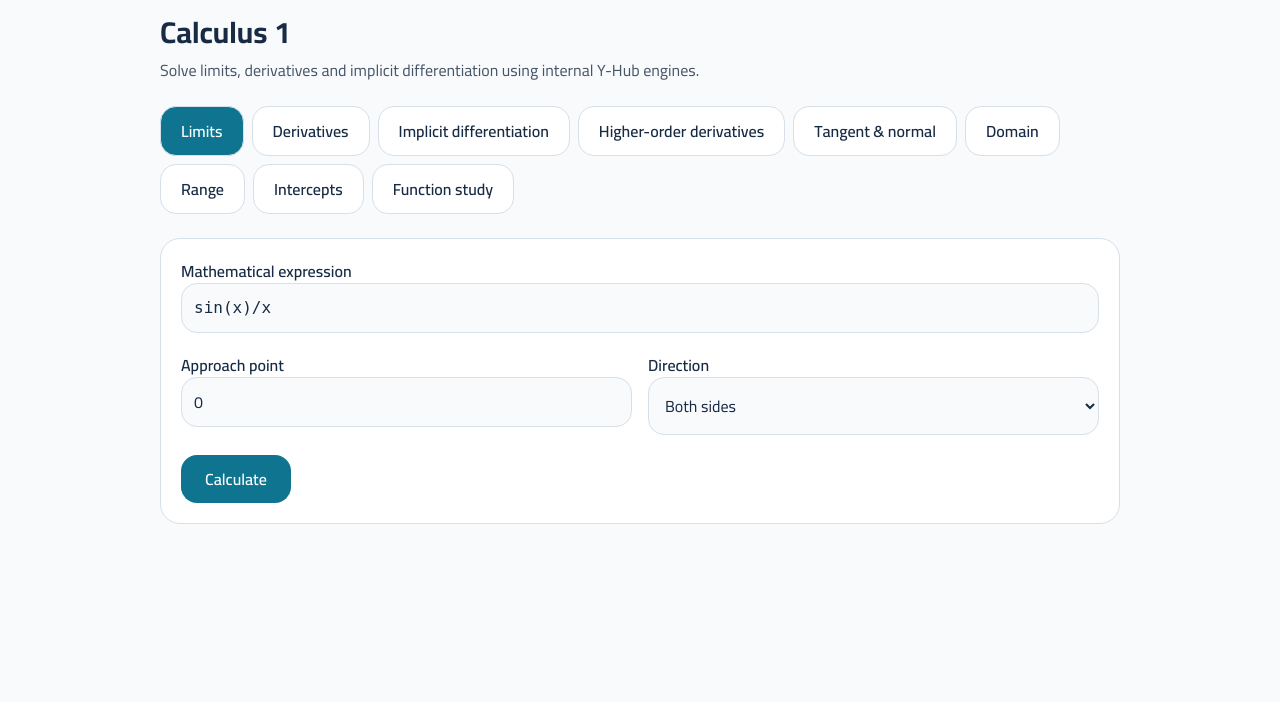
Test case: Calculus 1 function study UI › displays the exact quadratic proof in its own section
Click the tab "Function study".
click(443, 189)  # box [372,164,514,214]
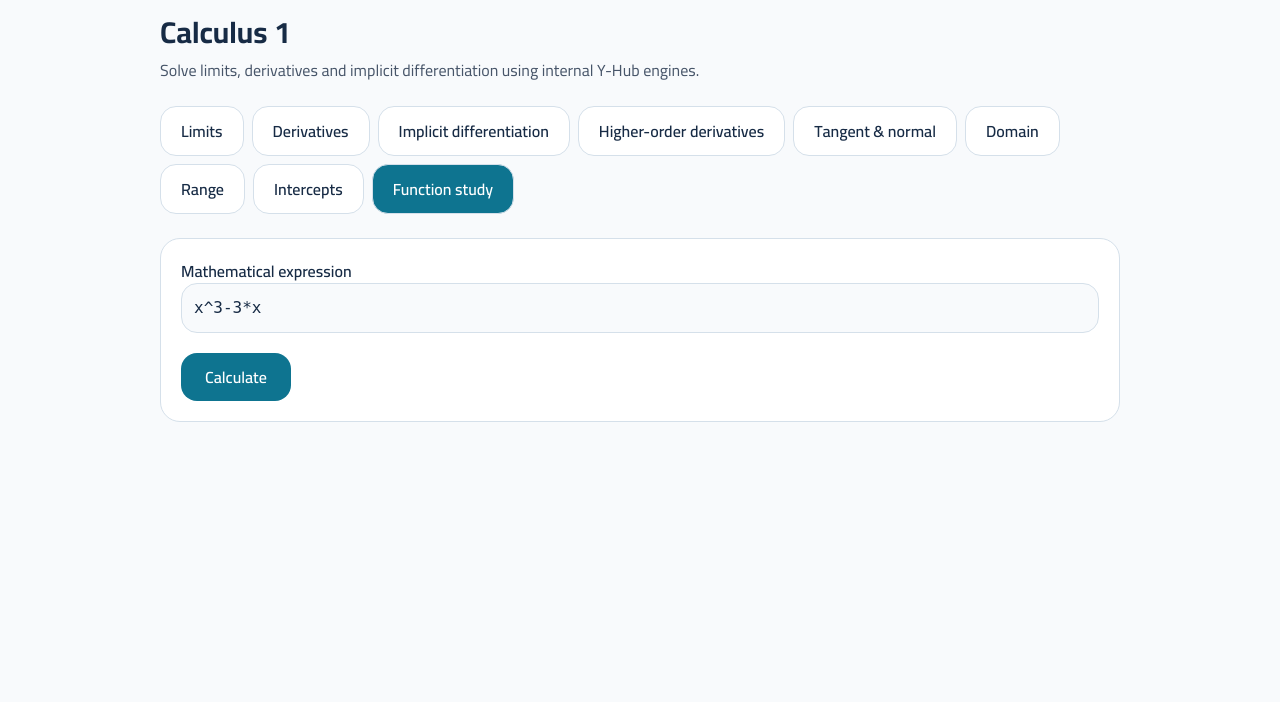
Type "x^2-4*x+1" into the field labelled "Mathematical expression".
click(640, 308); type("x^2-4*x+1")  # box [181,283,1099,333]
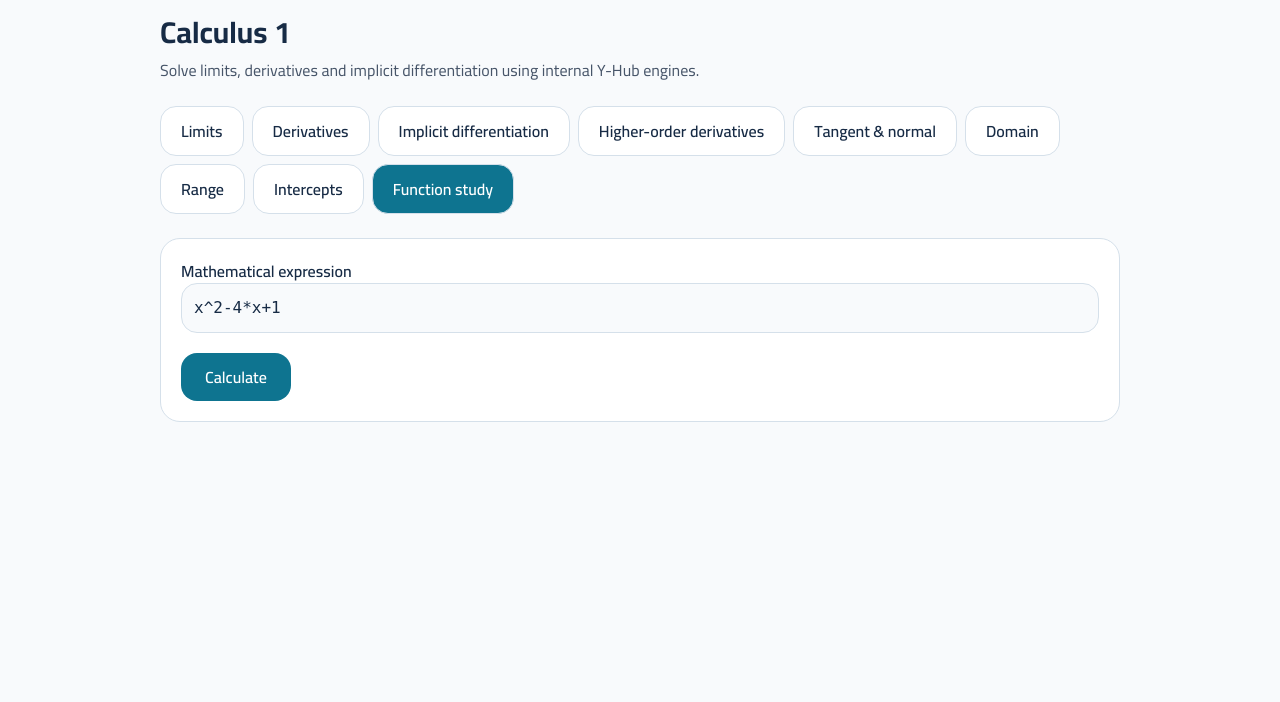
Click the button "Calculate".
click(236, 377)  # box [181,353,291,401]
(page scrolled)
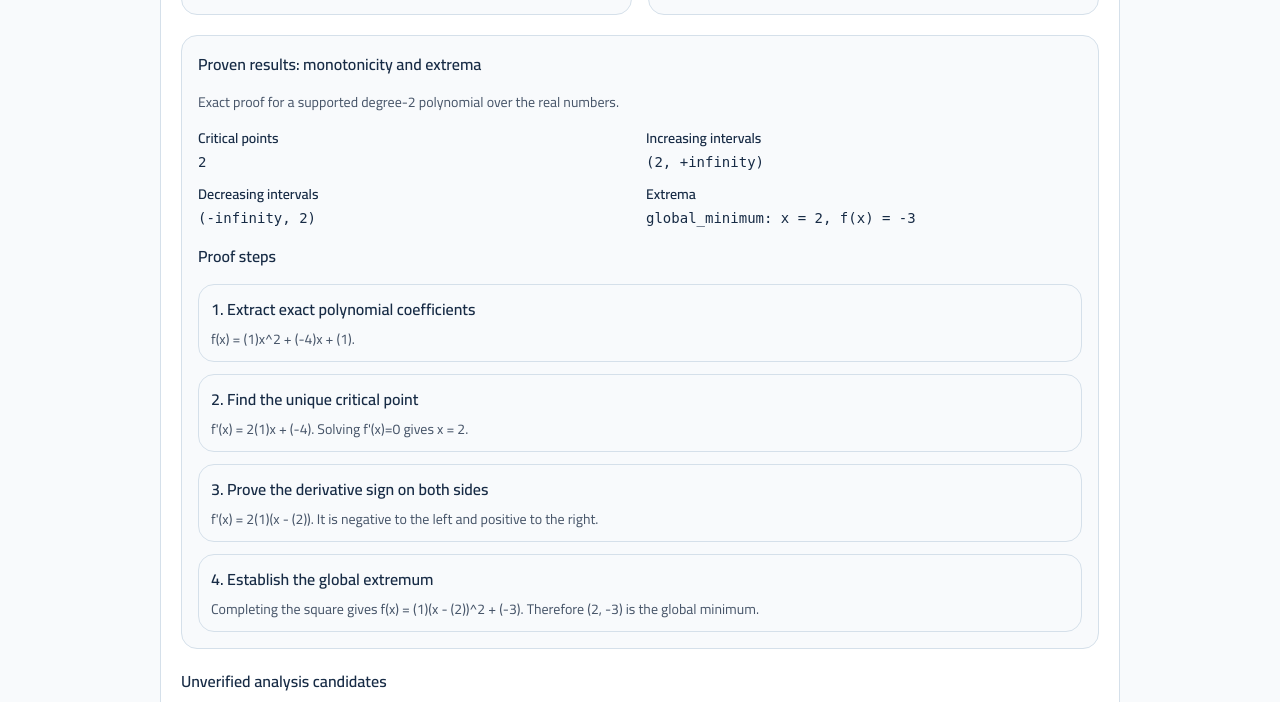
Expected: the element named "Verified monotonicity proof" shows "Proven results: monotonicity and extrema", [198,49,482,79]
Expected: the element named "Verified monotonicity proof" shows "global_minimum: x = 2, f(x) = -3", [646,210,916,226]
Expected: the element named "Verified monotonicity proof" shows "Proof steps", [198,241,276,271]
